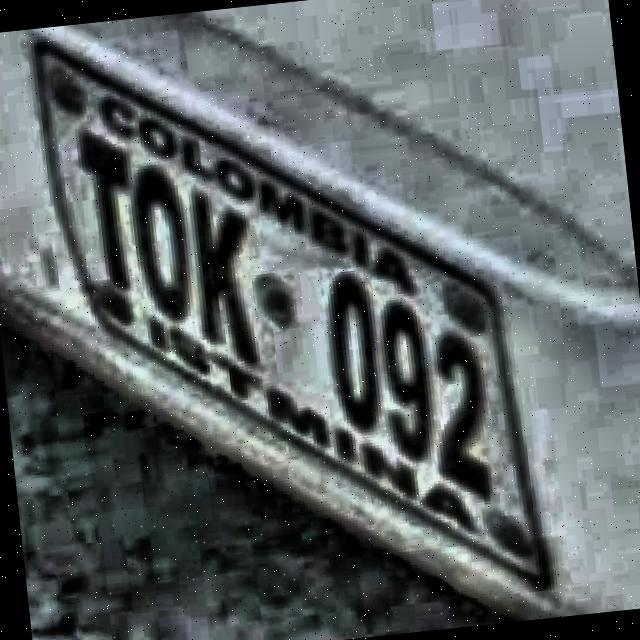plate: (40, 48, 545, 582)
